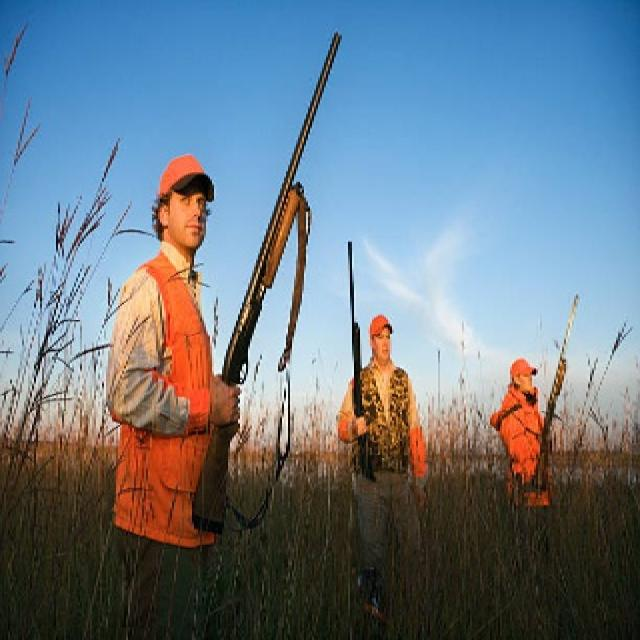rifle: (175, 28, 347, 524), (523, 290, 583, 497), (335, 231, 379, 489)
